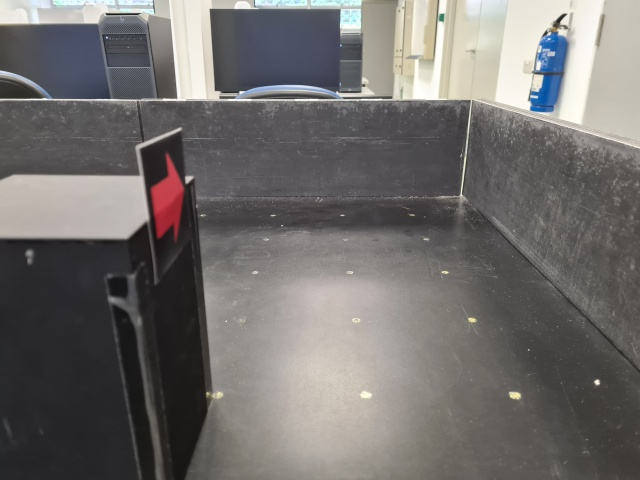left_arrow: (134, 126, 194, 287)
